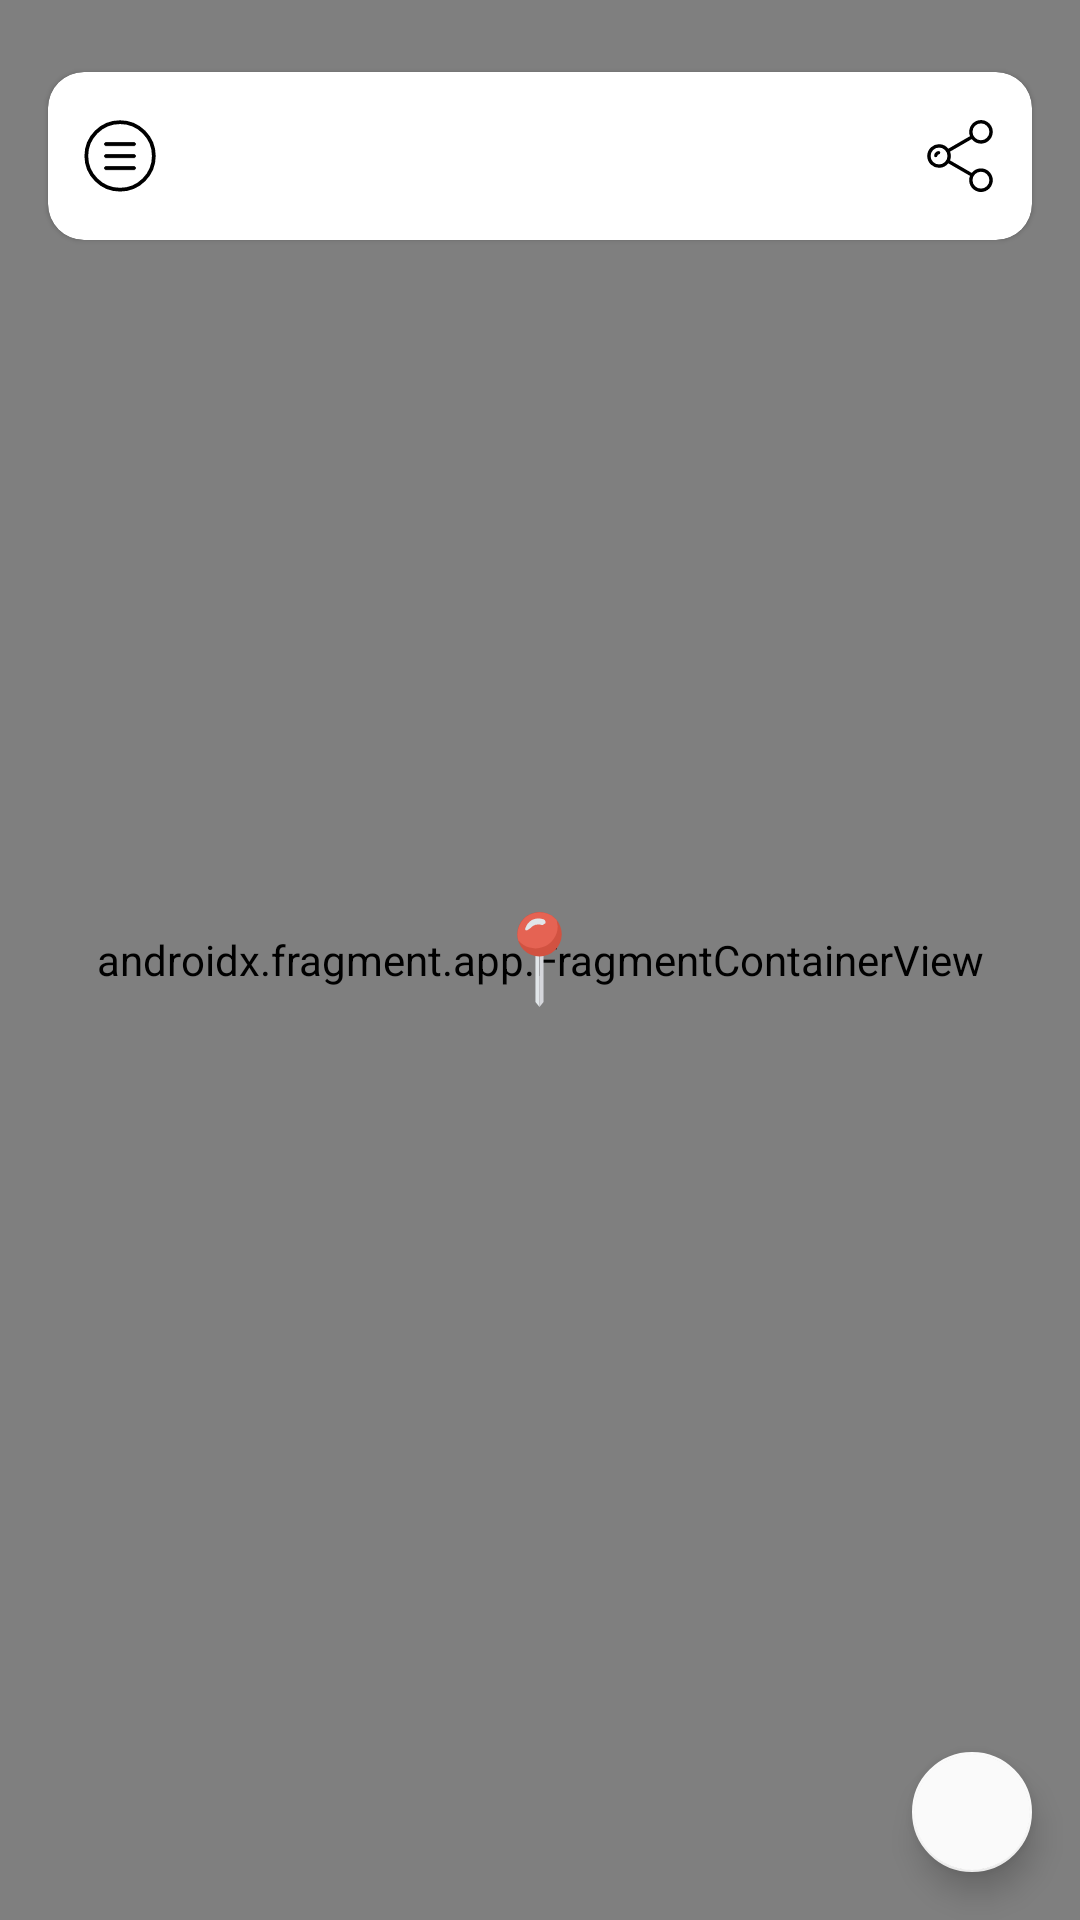

Named icons in this screenshot (1080 × 1920) and their centers, [x,y]:
menu: [120,156]
share: [960,156]
